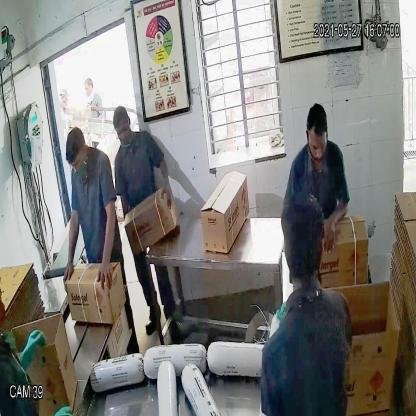no_goggles: (305, 133, 330, 159), (65, 151, 87, 173)
